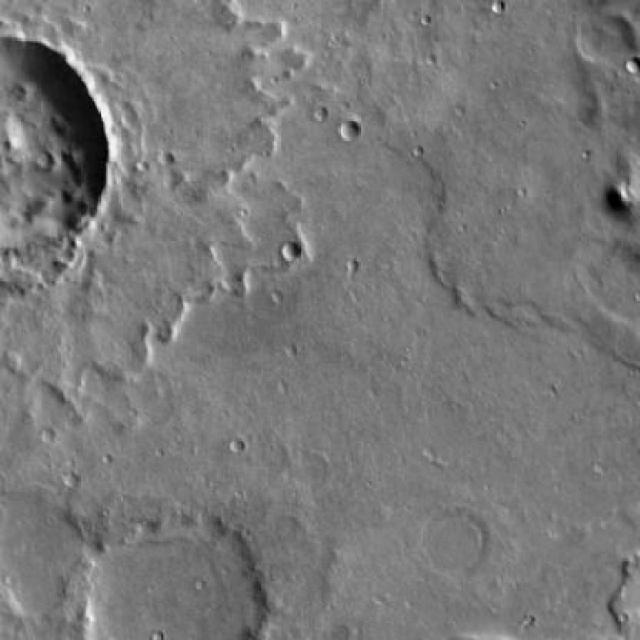crater: (0, 45, 108, 288), (83, 509, 268, 640), (422, 514, 482, 572), (340, 122, 358, 140), (283, 240, 300, 258), (624, 58, 640, 73)
